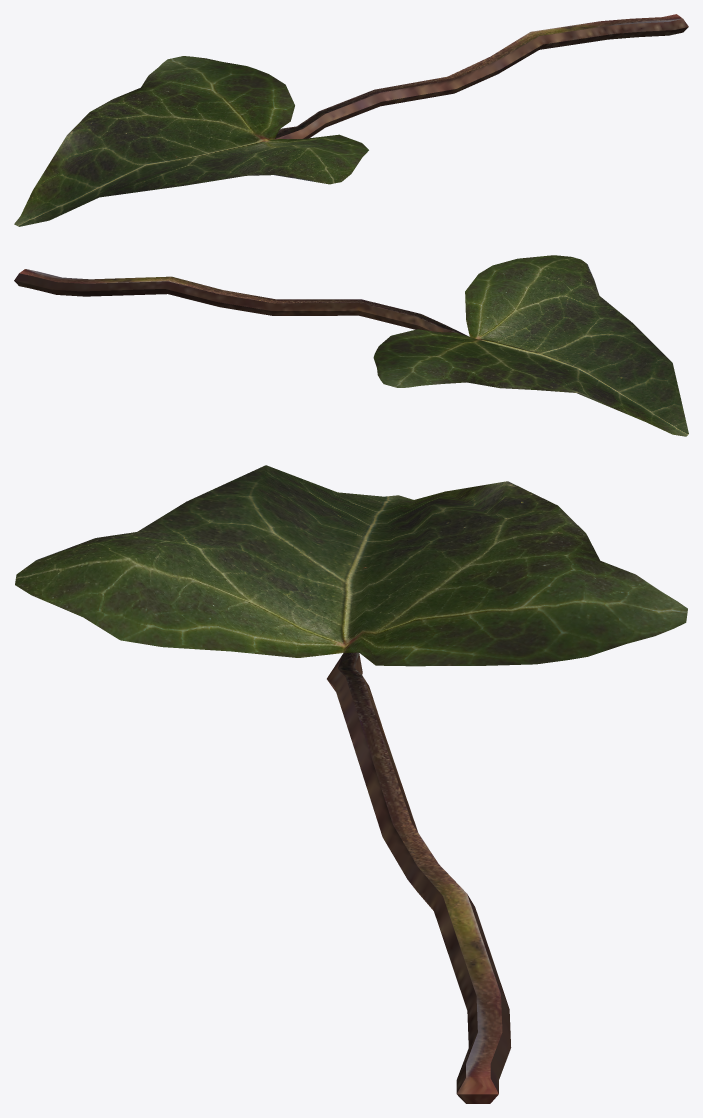
The model's file is efeu_sketchfab.fbx.
3 views of the same model, one above another, from view 1: azimuth 30°, elevation 25°; view 2: azimuth 150°, elevation 25°; view 3: azimuth 270°, elevation 25° (orthographic). The views are drawn at different scales.
Visible parts, largest first — view 1: ivy; view 2: ivy; view 3: ivy.
Part boxes in pixels (left/top/right/bottom): ivy: left=14, top=14, right=688, bottom=226; ivy: left=14, top=255, right=688, bottom=436; ivy: left=15, top=465, right=687, bottom=1103.
Bounding box in the file's own units: 10.7 × 1.11 × 4.82.
1 material, 1 textured.
